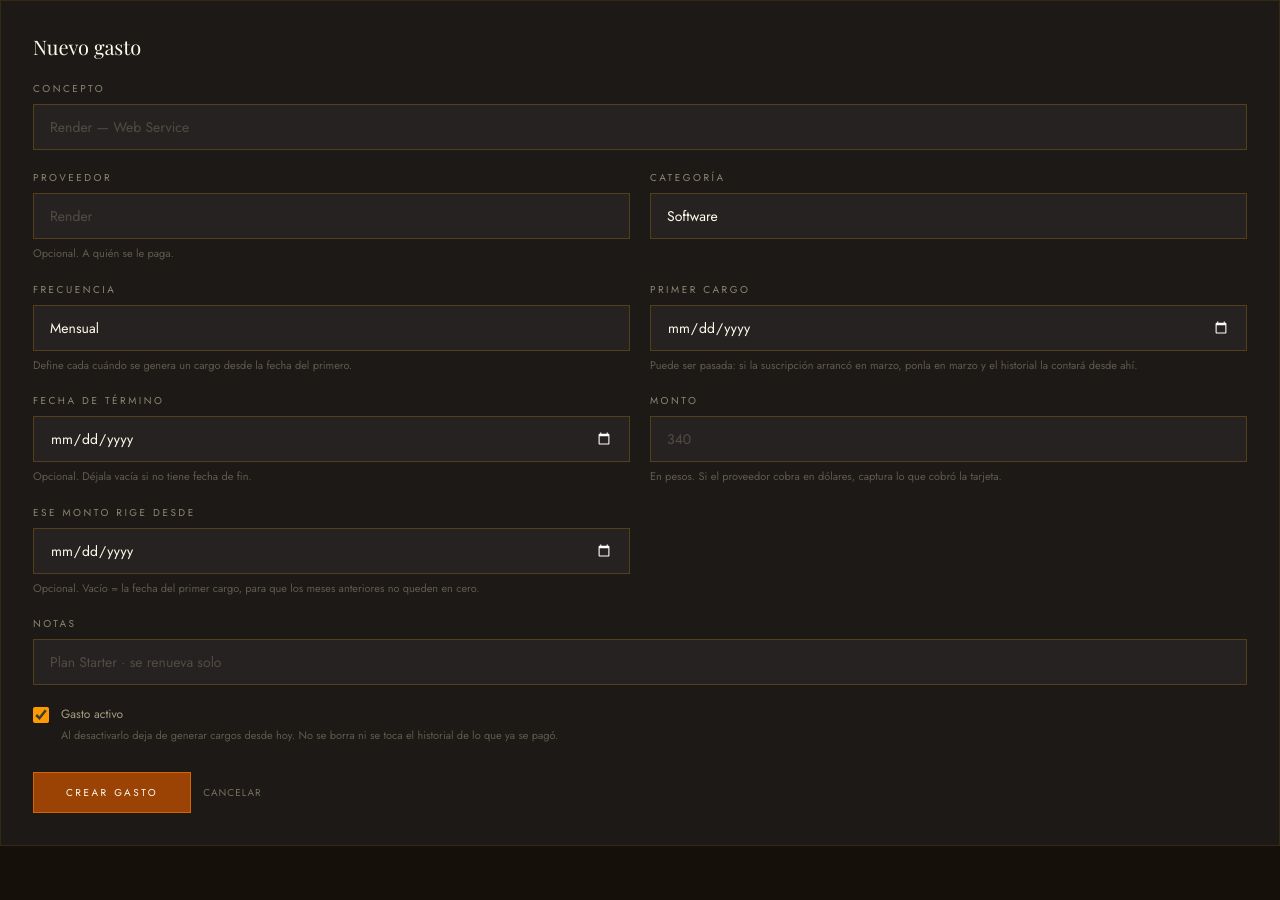
it: ExpenseForm › validación (espejo del backend) › exige el monto en el alta
Type "Gasto de prueba" into the field labelled "Concepto" at (640, 127), box 33,104 -> 1247,150
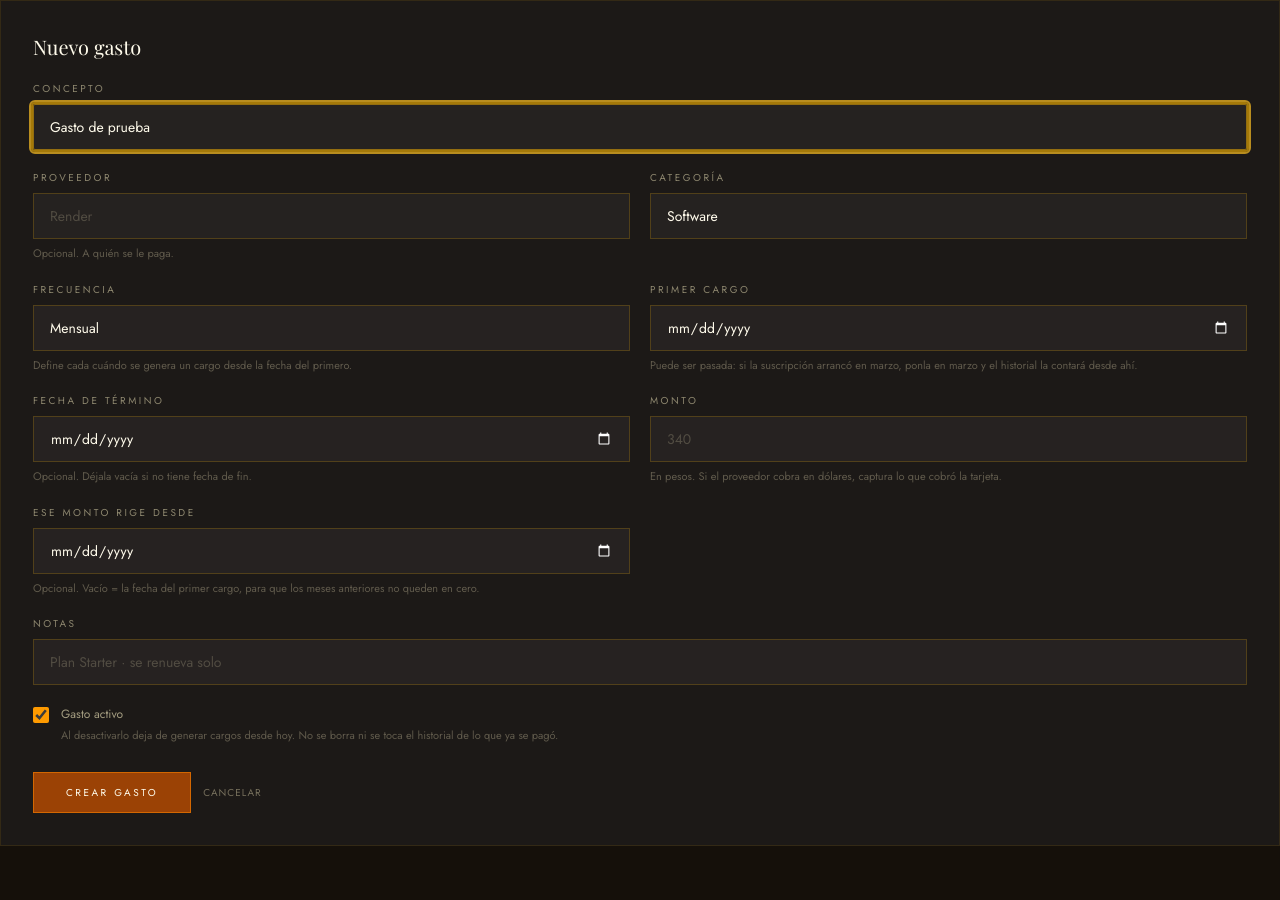
Type "2026-03-01" into the date field labelled "Primer cargo" at (948, 328), box 650,304 -> 1247,350
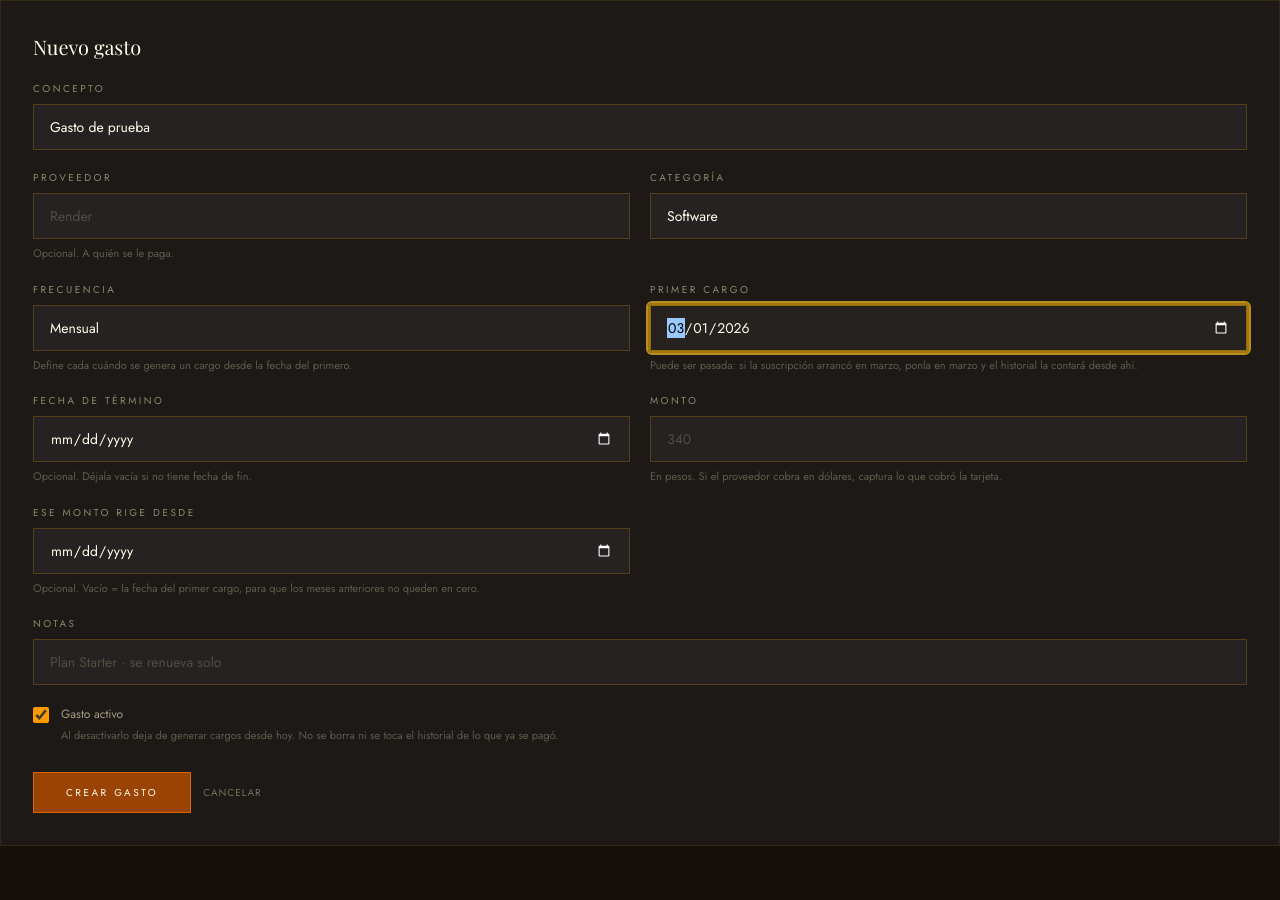
Click the button "Crear gasto" at (112, 793), box 33,772 -> 191,813
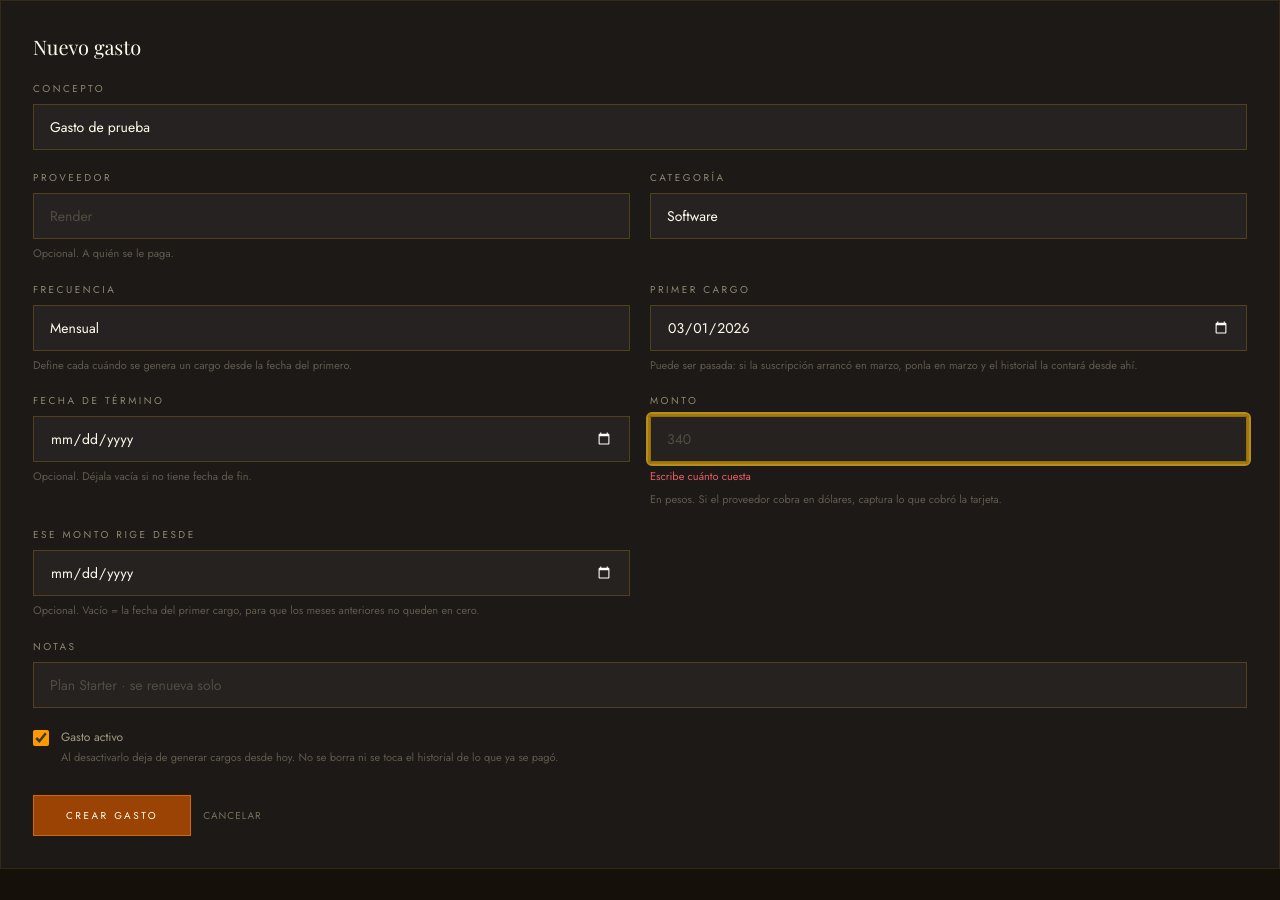
expect the text "Escribe cuánto cuesta" is shown: met, box 650,468 -> 751,484
